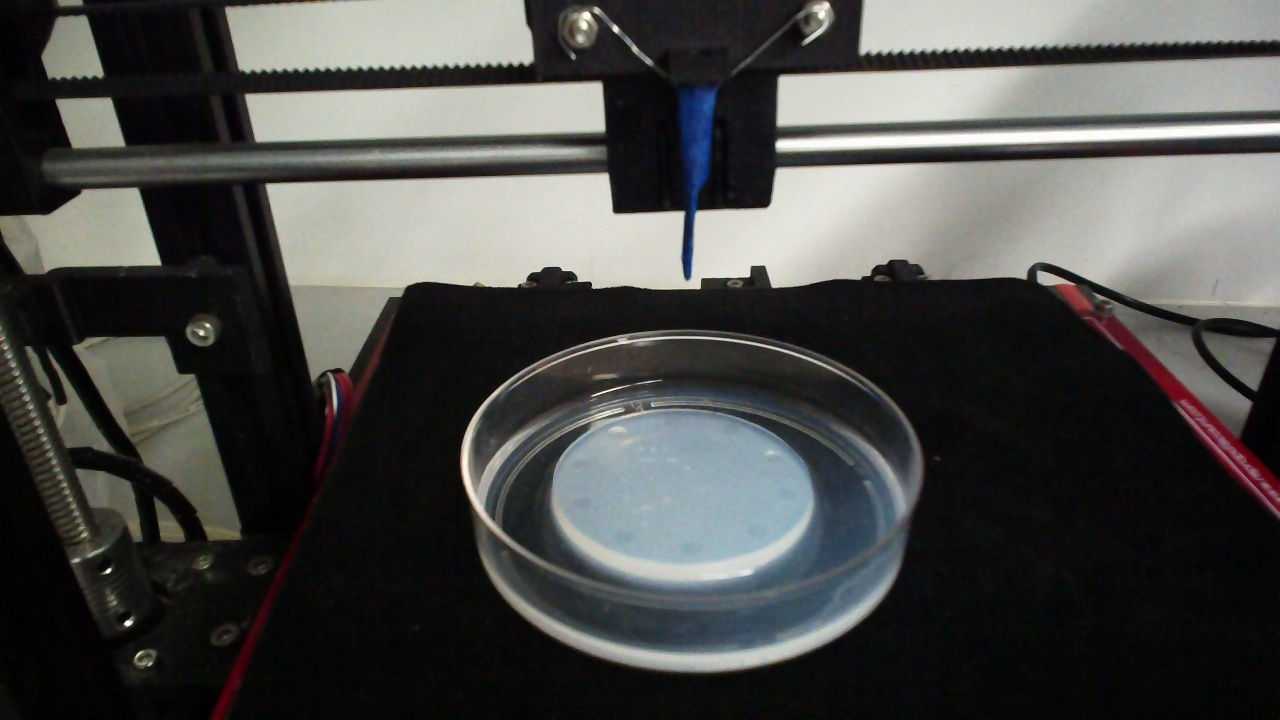groove: (744, 520, 770, 540), (609, 528, 636, 545), (680, 539, 704, 554), (775, 486, 799, 501), (604, 425, 627, 440), (569, 495, 591, 509), (764, 450, 786, 464), (718, 422, 740, 436), (570, 456, 593, 469), (662, 415, 682, 428)
needle: (679, 88, 716, 282)
